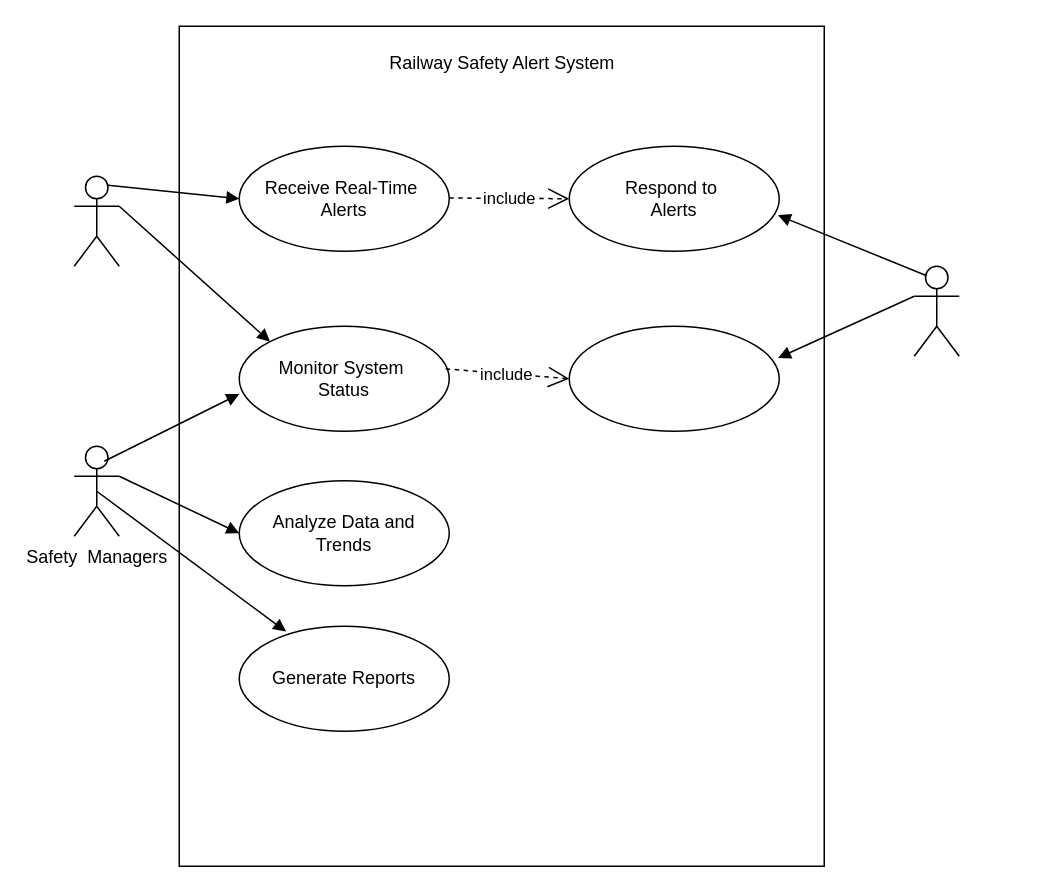
Image size: 1037x893. Some labels were removed from this diagram. Each missing label, with the centre of its shape:
Maintenance Crew: point 936,310
Perform Maintenance Actions: point 673,378
Train Operator: point 96,220
